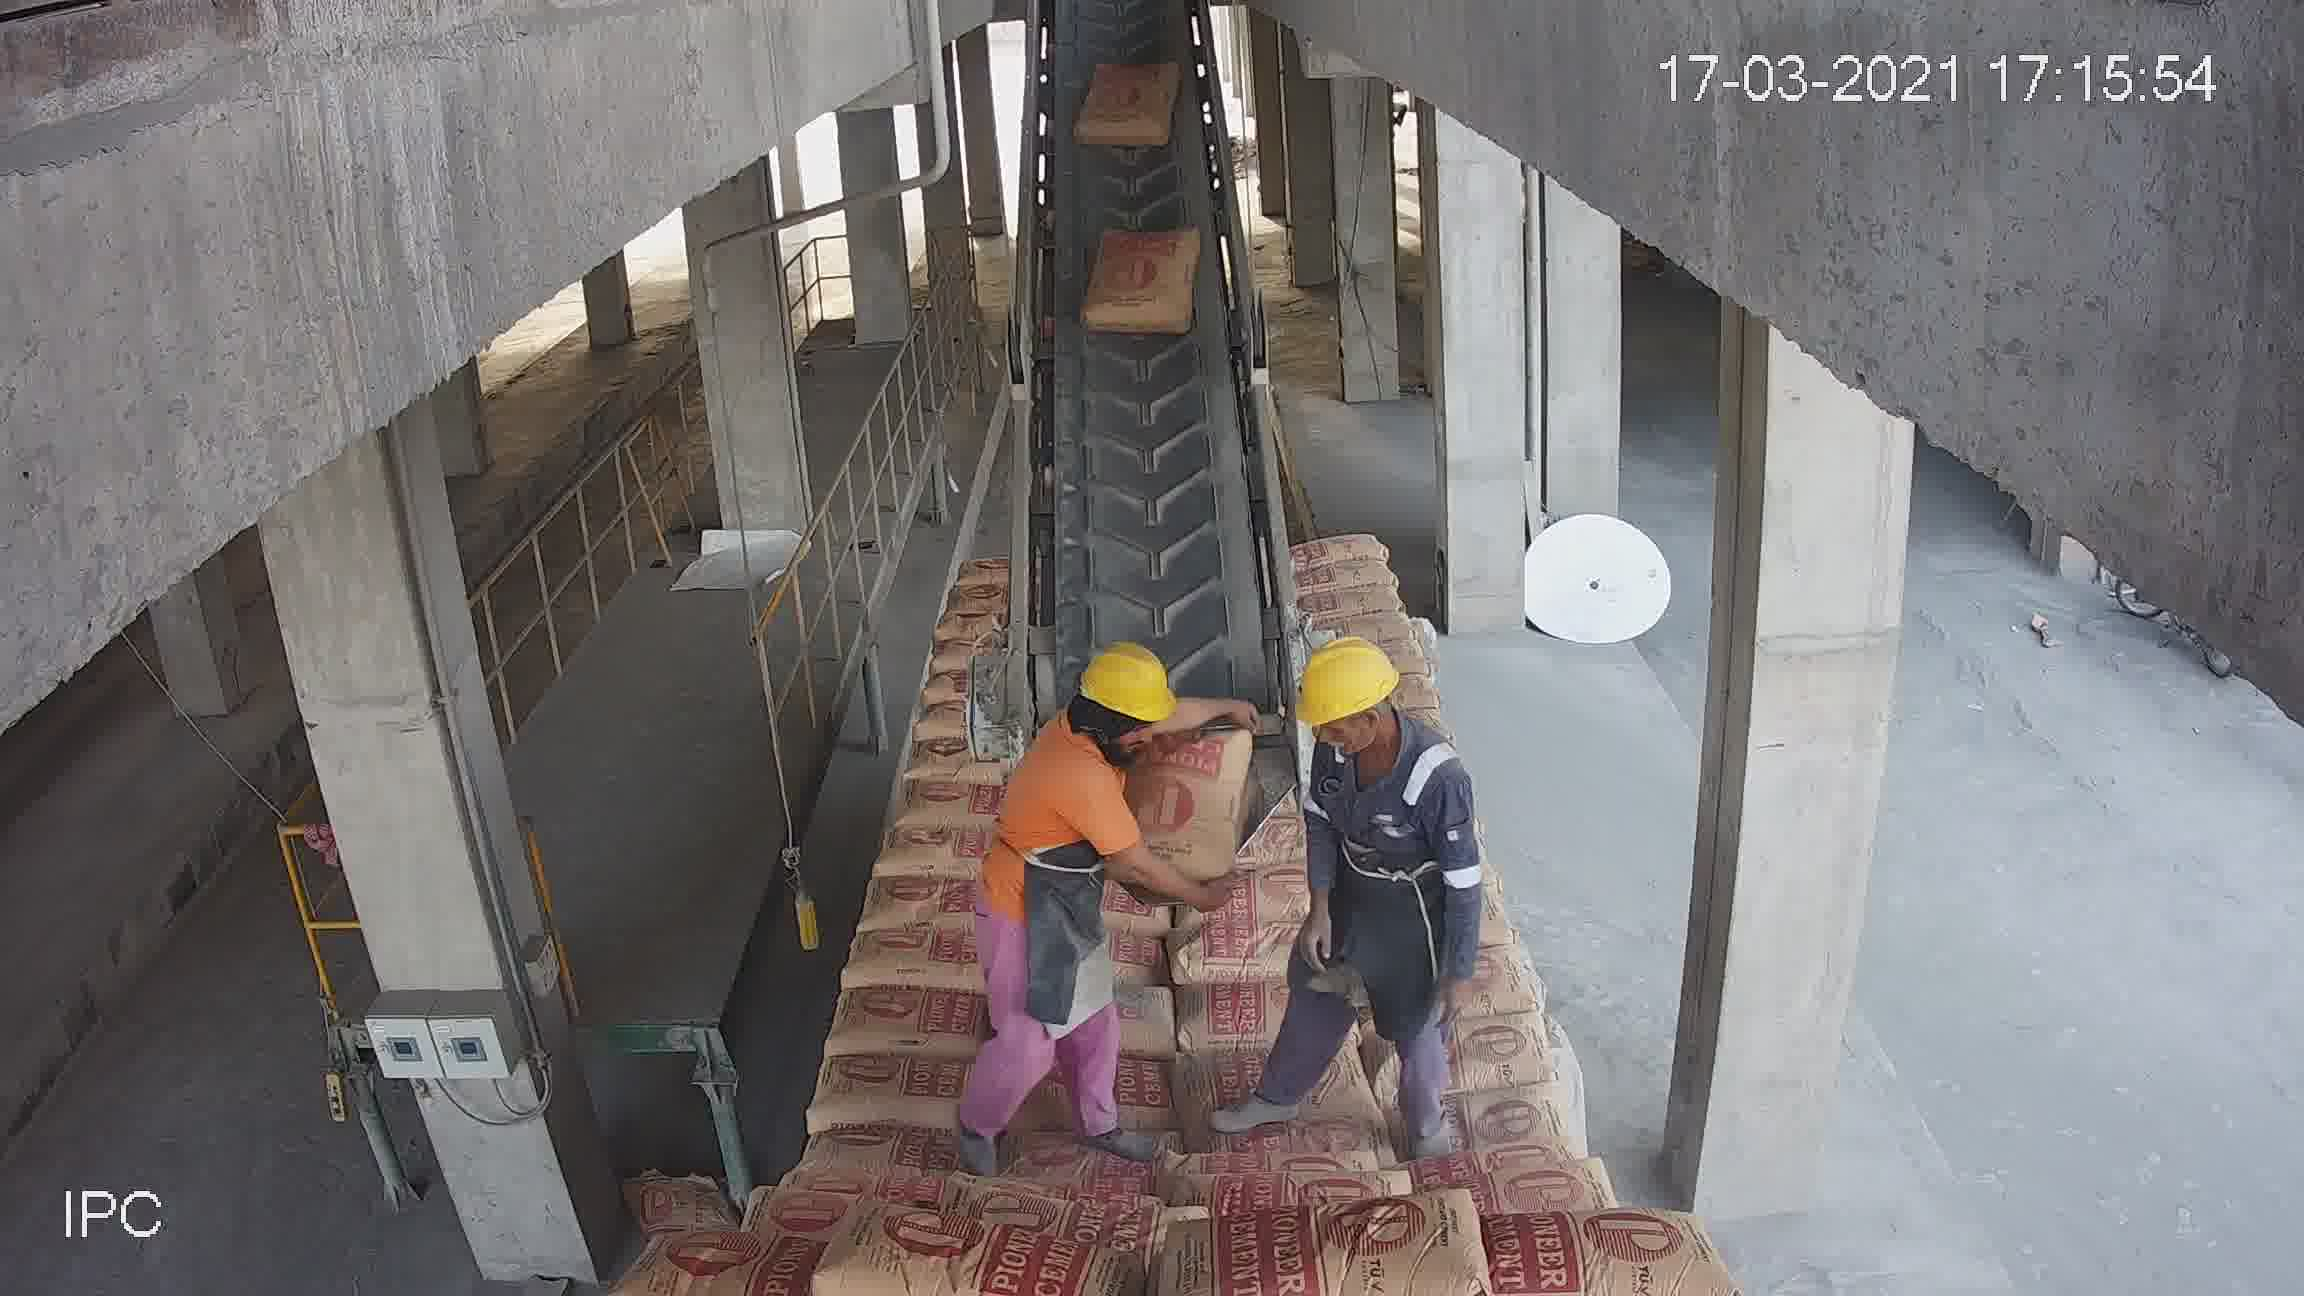bag: (1003, 9, 1290, 859), (1082, 218, 1195, 339), (1138, 737, 1250, 855), (1078, 63, 1184, 153)
bag_h: (1199, 1206, 1525, 1294), (1438, 1204, 1700, 1294), (818, 1226, 1105, 1296), (1199, 1095, 1415, 1179), (780, 1109, 978, 1195), (633, 1225, 851, 1296), (828, 975, 995, 1057), (810, 1059, 984, 1135), (1165, 911, 1301, 991), (1429, 1078, 1562, 1157), (855, 870, 970, 937), (1445, 1014, 1552, 1084), (873, 818, 978, 885), (840, 929, 968, 975), (1299, 587, 1410, 630), (1305, 559, 1400, 595), (1298, 538, 1391, 563)
